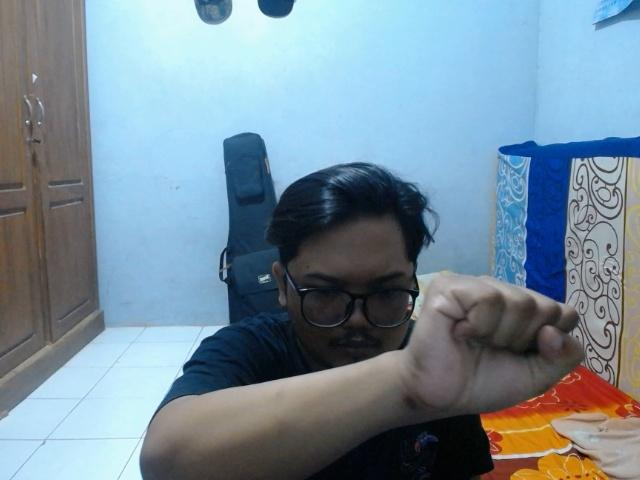Grab: (400, 267, 590, 422)
